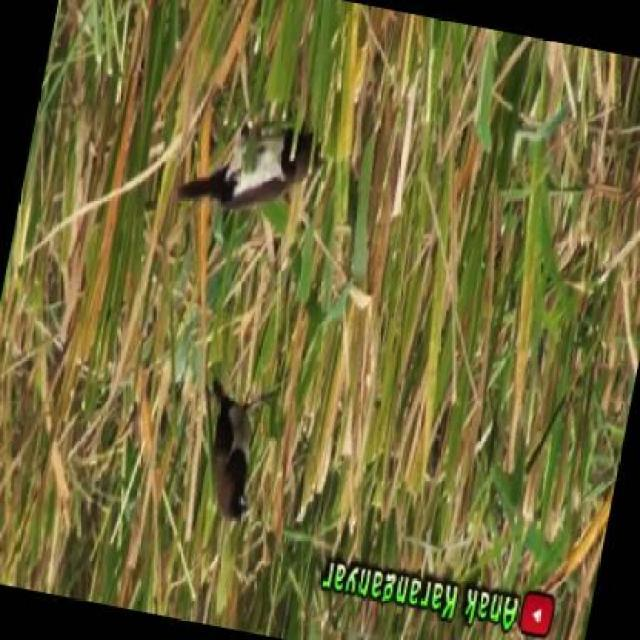Bird: (176, 126, 331, 222), (192, 380, 275, 528)
